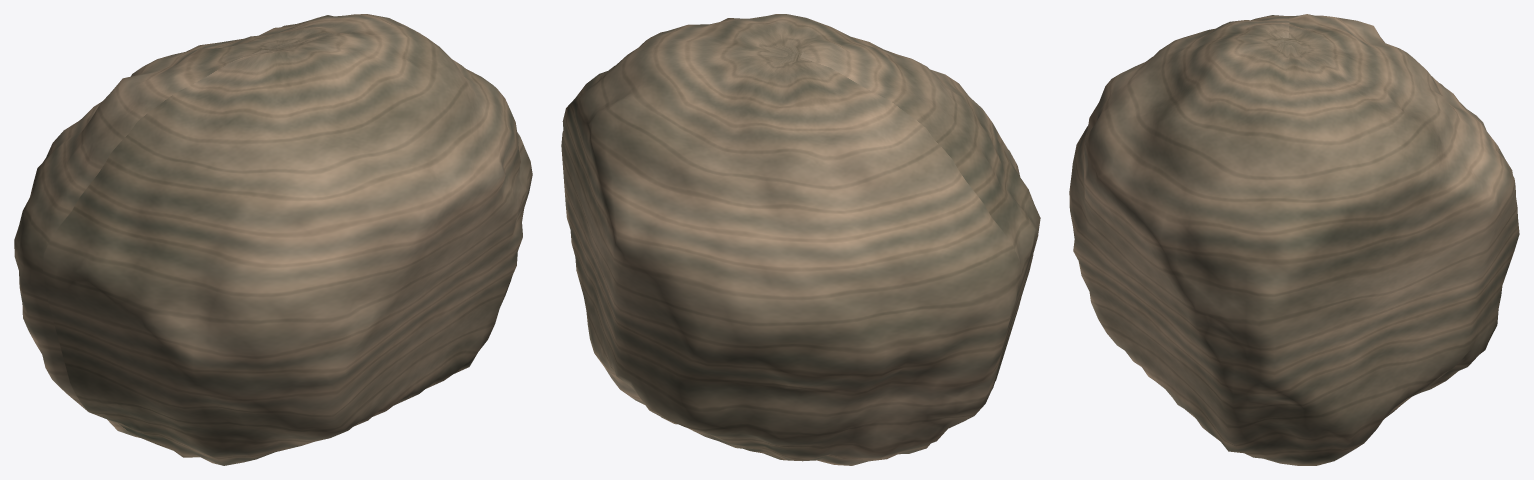
File: PZ_R04_Granite_Rock_Sediment.glb
The picture shows the model from 3 angles, left to right: view 1: azimuth 30°, elevation 25°; view 2: azimuth 150°, elevation 25°; view 3: azimuth 270°, elevation 25°; orthographic projection.
Parts seen in each view (by area): view 1: RENDER_R04_Granite_Rock_Sediment; view 2: RENDER_R04_Granite_Rock_Sediment; view 3: RENDER_R04_Granite_Rock_Sediment.
Boxes of the visible parts, x1,y1,x2,y2 form: RENDER_R04_Granite_Rock_Sediment: (14, 14, 532, 465); RENDER_R04_Granite_Rock_Sediment: (561, 14, 1040, 465); RENDER_R04_Granite_Rock_Sediment: (1069, 14, 1519, 465).
Size of the model in its own units: 1.1 by 0.81 by 0.91.
Materials: 1 (1 with a texture image).
